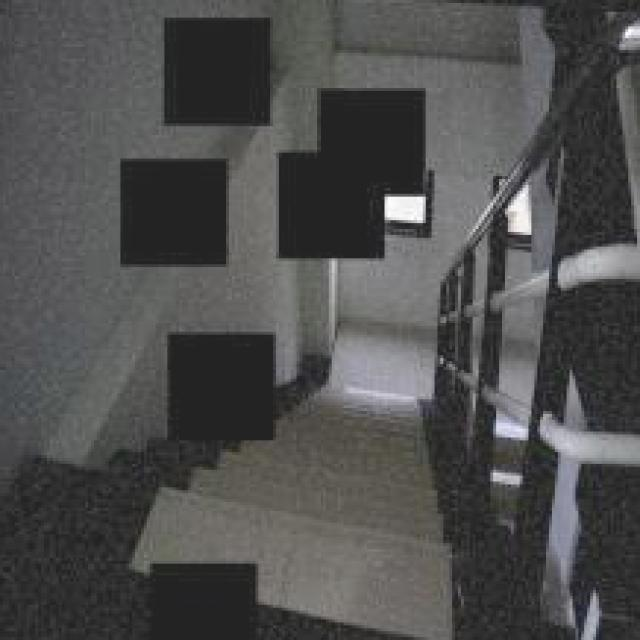downstair: (292, 401, 447, 618)
